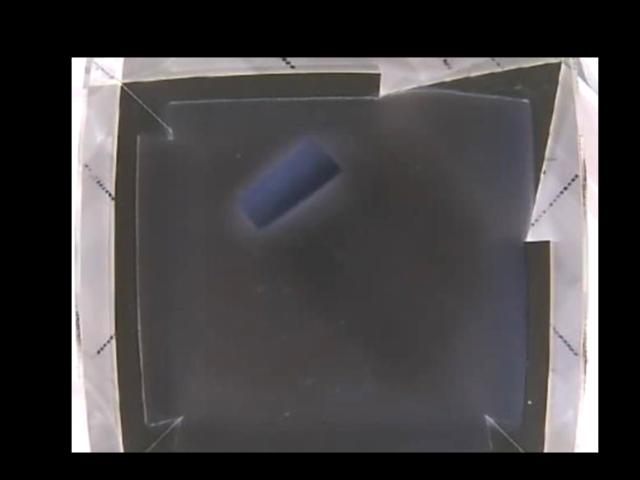Mooli: (235, 141, 339, 229)
